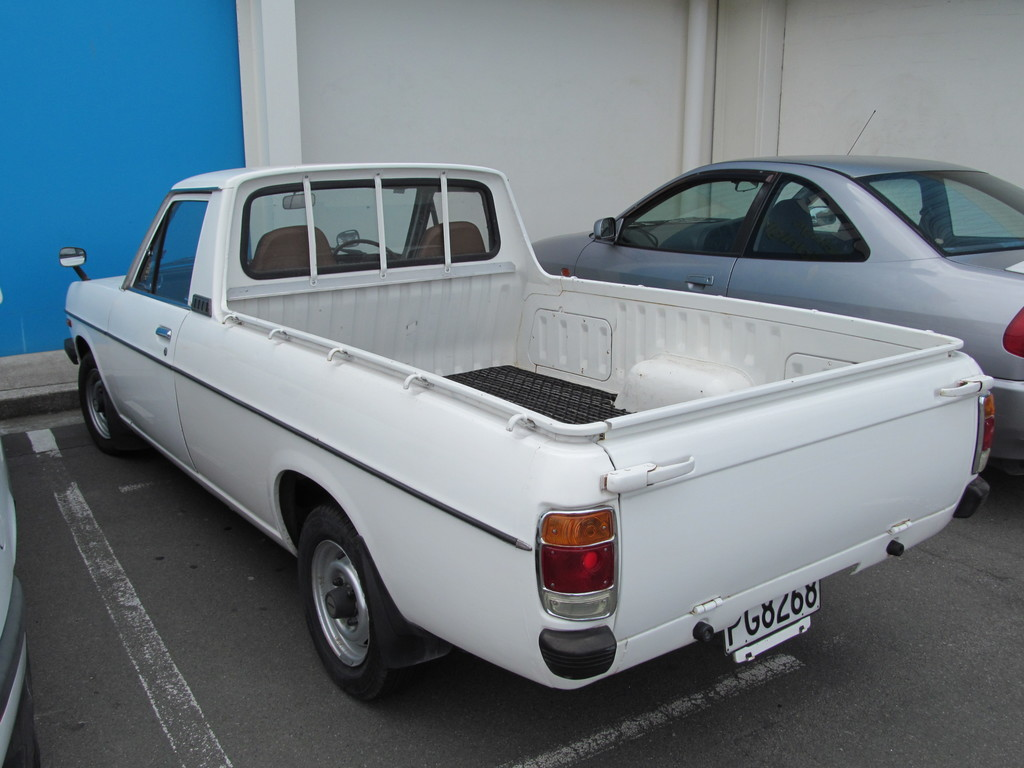Car: (60, 168, 997, 707), (529, 110, 1023, 483)
